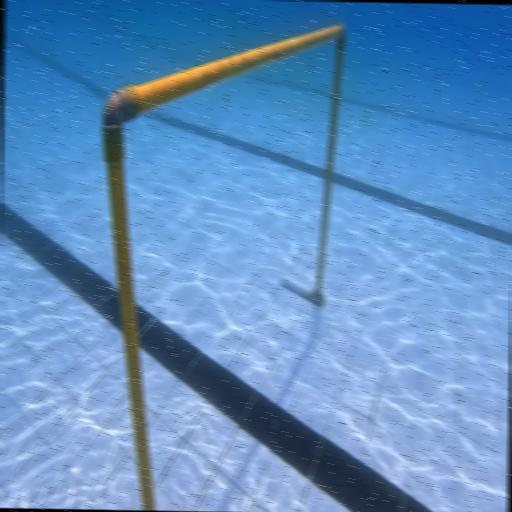gate: (94, 16, 347, 512)
